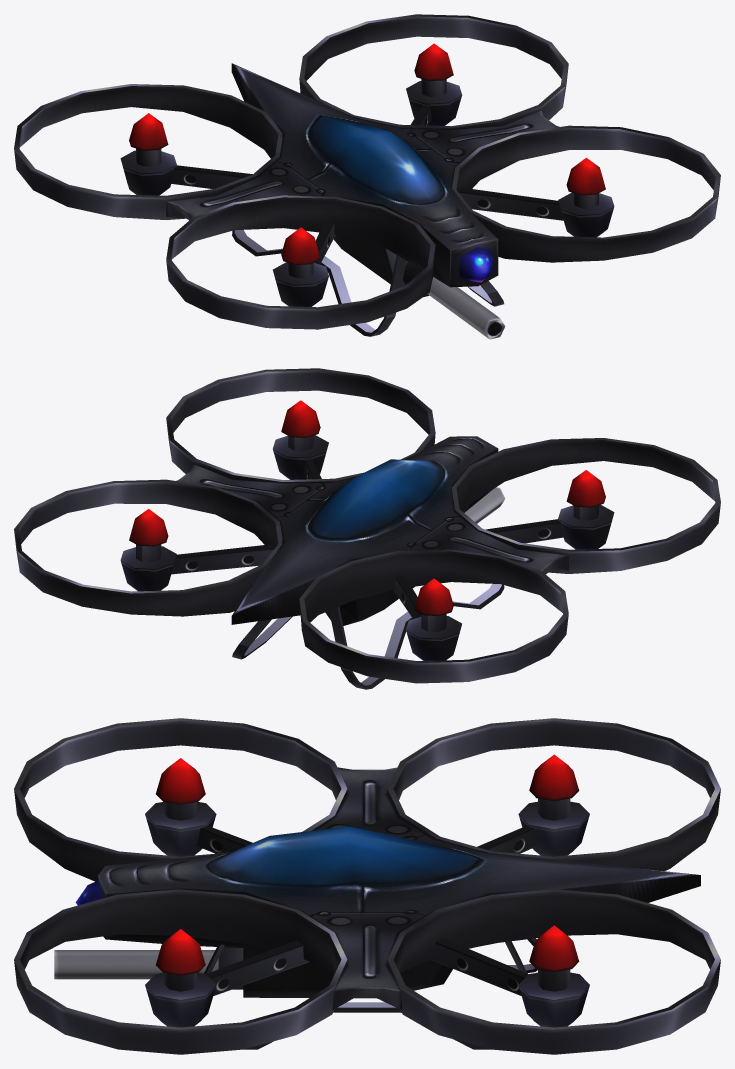
The model's file is drone.FBX.
3 views of the same model, one above another, from view 1: azimuth 30°, elevation 25°; view 2: azimuth 150°, elevation 25°; view 3: azimuth 270°, elevation 25° (orthographic). The views are drawn at different scales.
Parts seen in each view (by area): view 1: drone; view 2: drone; view 3: drone.
Boxes of the visible parts, box(x1,y1,x2,y2) form: drone: box(14, 14, 720, 339); drone: box(14, 368, 720, 689); drone: box(14, 718, 720, 1054).
Bounding box in the file's own units: 0.3786 × 0.0992 × 0.3627.
